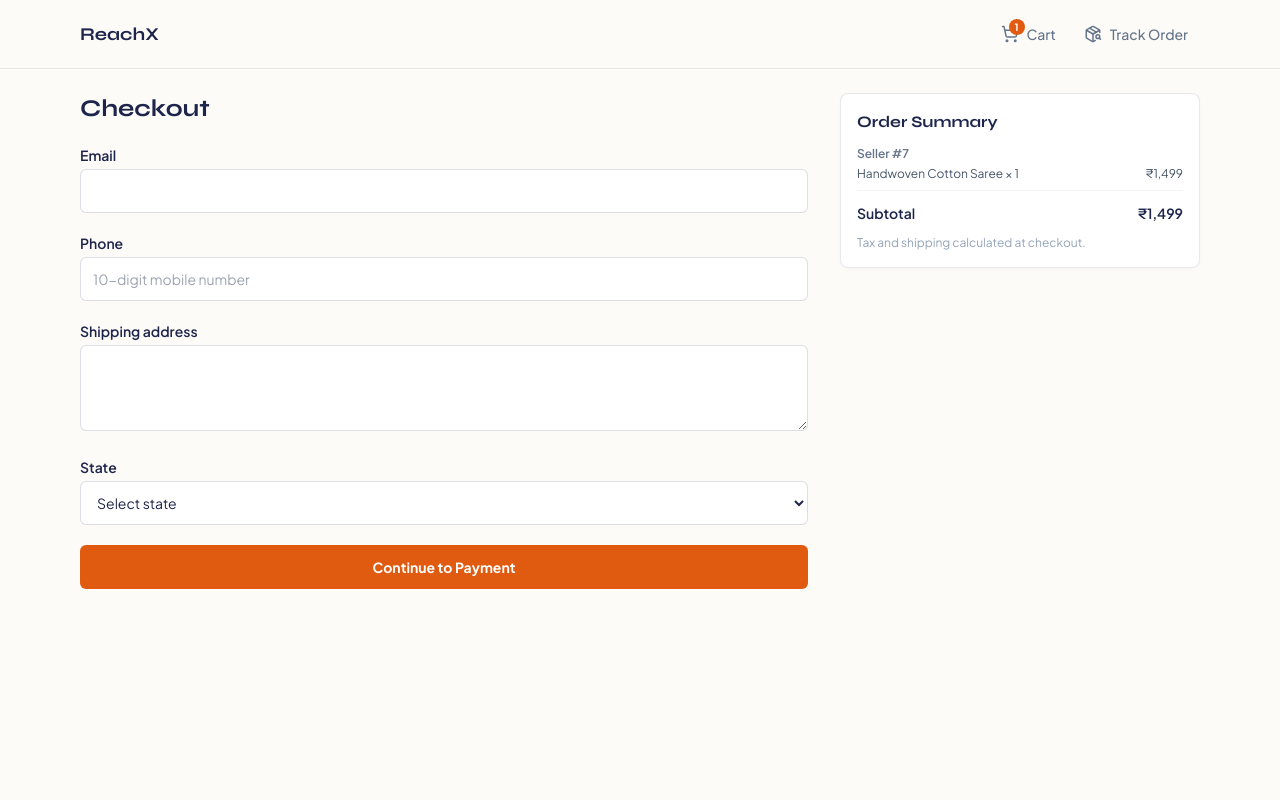
it: Checkout form - validation and empty-cart guard › blocks submit with inline errors on an invalid phone and a missing state
Check: the heading "Checkout" is shown, box x1=80 y1=94 x2=210 y2=123
Type "guest@example.com" into the field labelled "Email".
click(444, 191); type("guest@example.com")  # box x1=80 y1=169 x2=808 y2=213
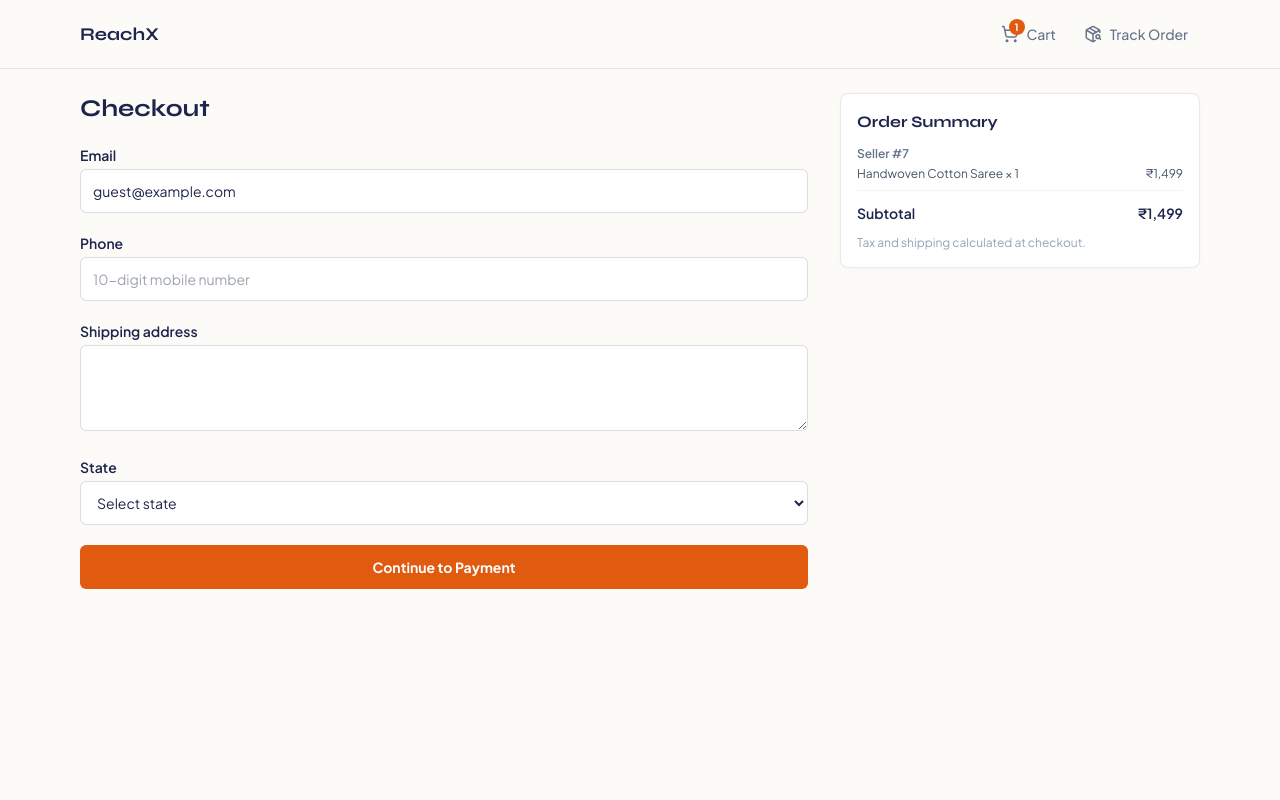
Type "12345" into the field labelled "Phone".
click(444, 279); type("12345")  # box x1=80 y1=257 x2=808 y2=301
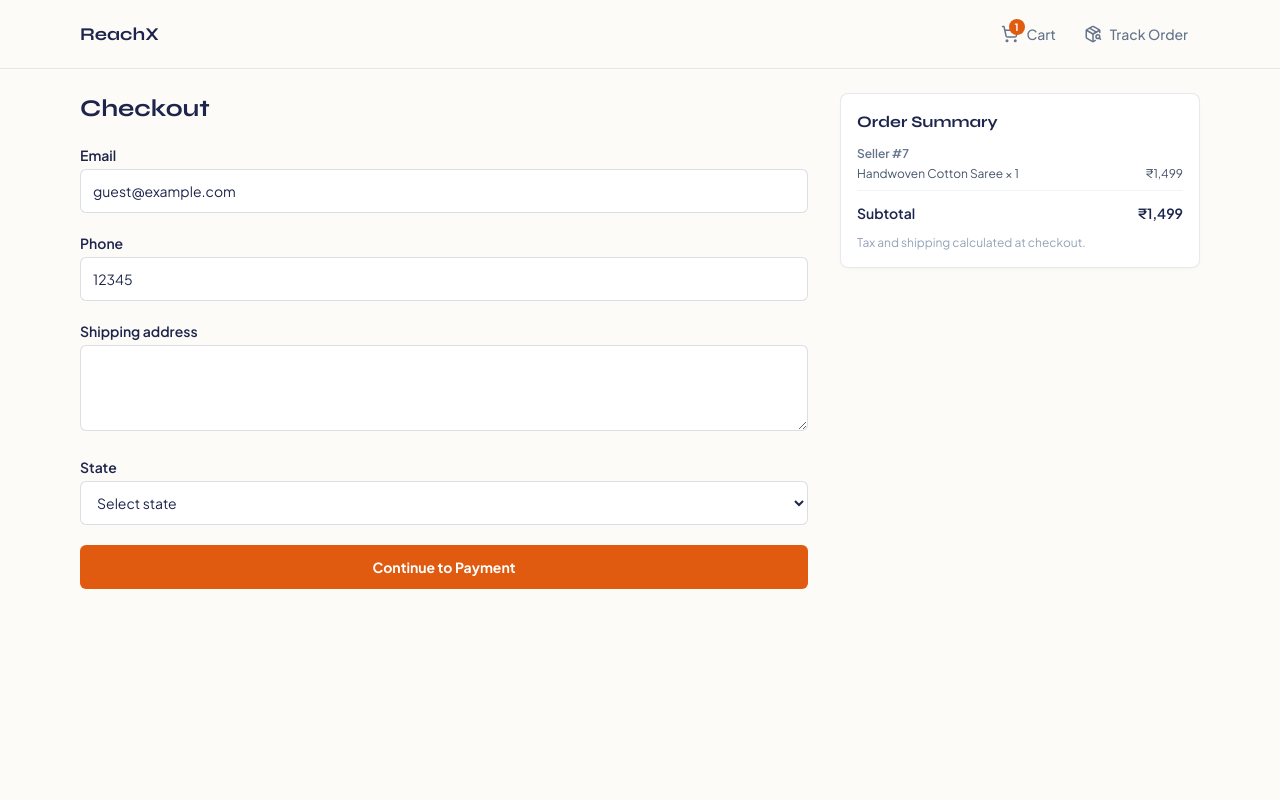
Type "123 MG Road, Bengaluru, 560001" into the text box labelled "Shipping address".
click(444, 388); type("123 MG Road, Bengaluru, 560001")  # box x1=80 y1=345 x2=808 y2=431
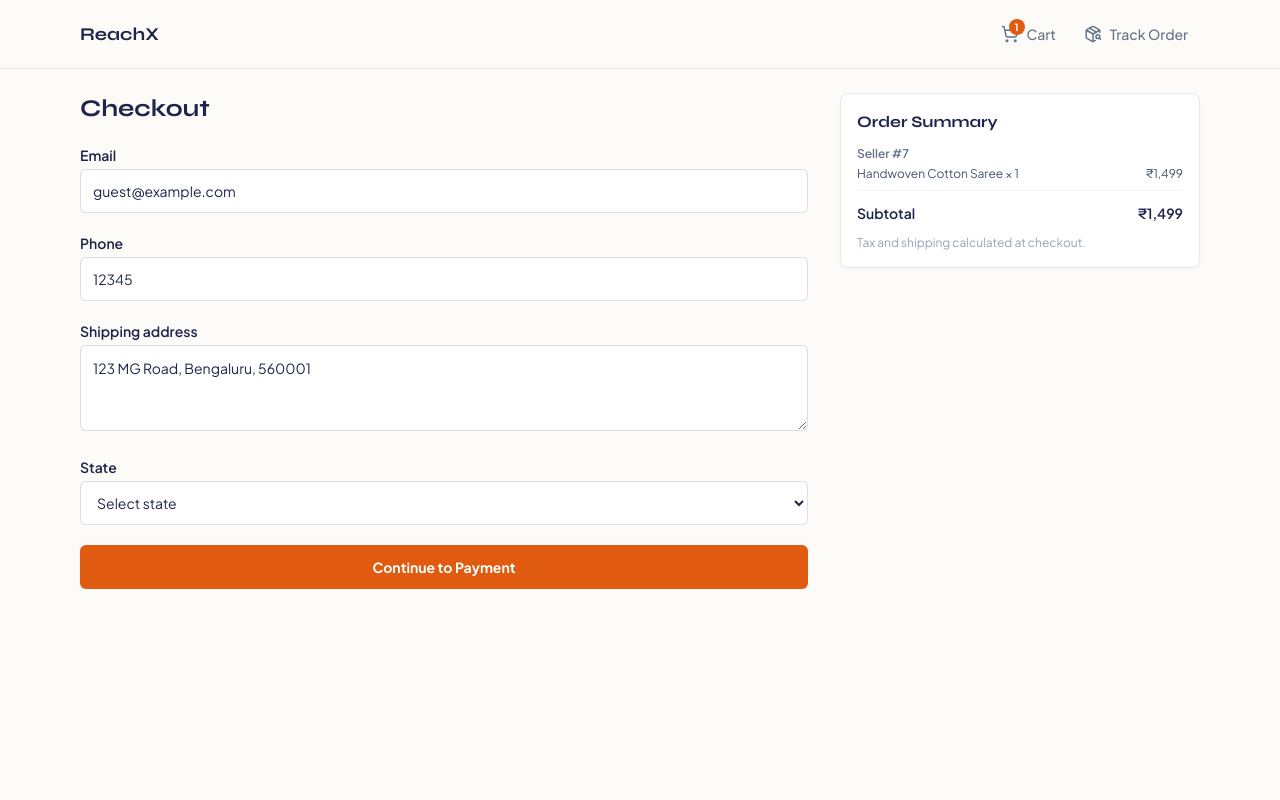
Click the button "Continue to Payment".
click(444, 567)  # box x1=80 y1=545 x2=808 y2=589
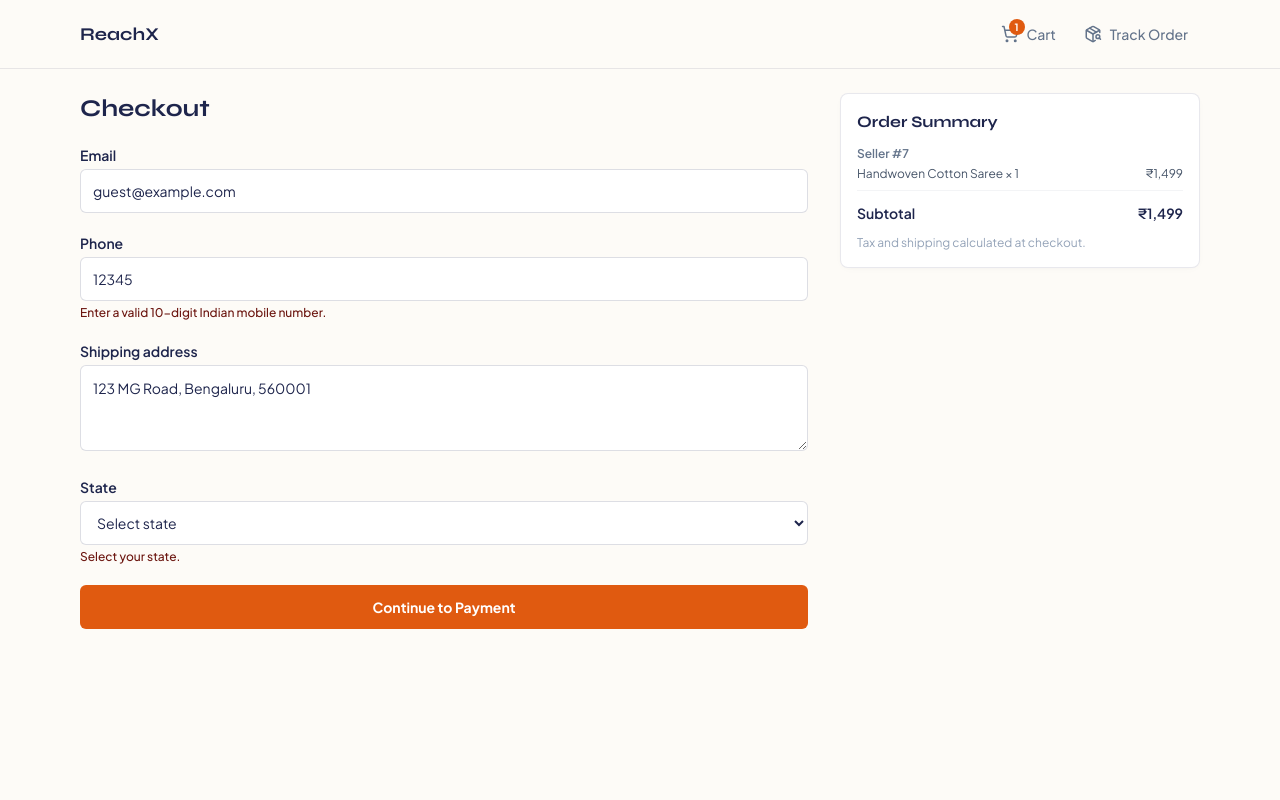
Check: the text "Enter a valid 10-digit Indian mobile number." is shown, box x1=80 y1=305 x2=326 y2=320
Check: the text "Select your state." is shown, box x1=80 y1=549 x2=180 y2=564
